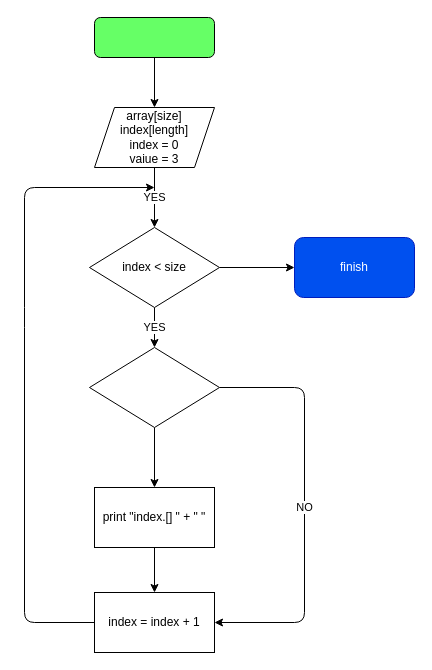
Image size: 432x670. Some labels were removed from this diagram. The shapes that lost their labels are listed below. From the top down, each one's box as (x1, y1, x2, y2) in pixels, then its label:
(94, 16, 214, 58): start
(88, 346, 220, 428): index.length <= value
